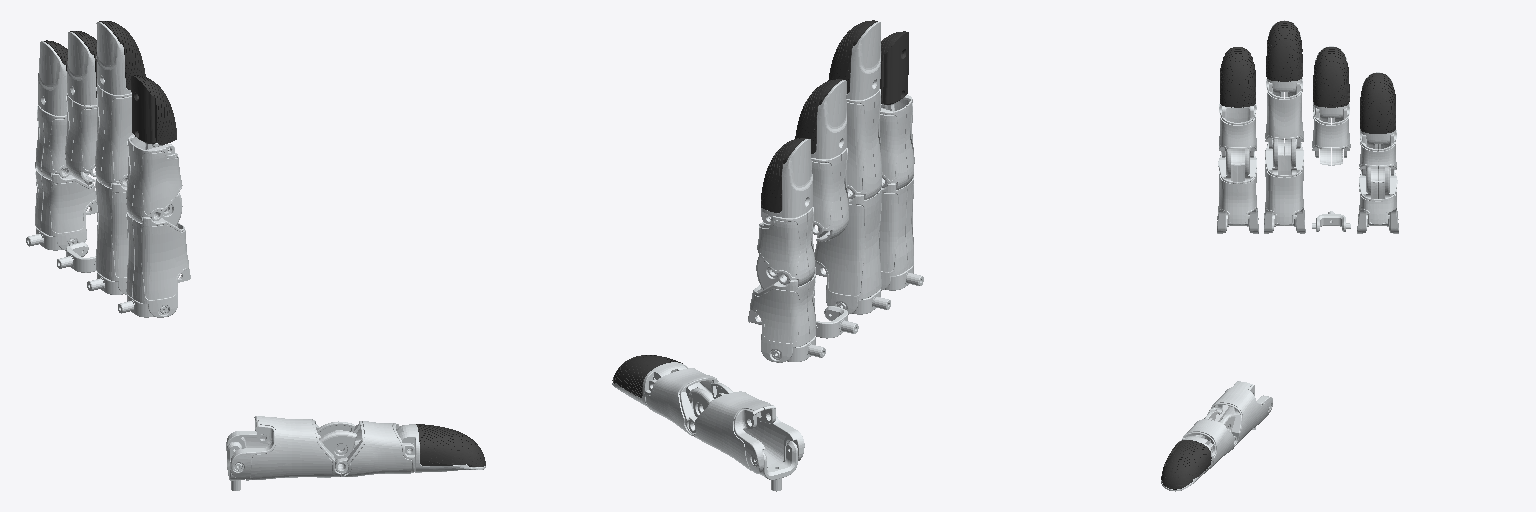
--- Facts derived from the render (not from the file) ---
3 views of the same robot in one strip: view 1: azimuth 30°, elevation 25°; view 2: azimuth 150°, elevation 25°; view 3: azimuth 270°, elevation 25° (orthographic).
Robot: ruihand15z — 26 links, 25 joints (20 revolute, 5 fixed); root link basez_link; default pose: every joint at zero.
Visible links, largest first — view 1: fz12_Link, fz22_Link, fz23_Link, fz52_Link, fz13_Link, fz33_Link, fz32_Link, fz25_Link, fz43_Link, fz15_Link, fz53_Link, fz54_Link (+5 smaller); view 2: fz12_Link, fz32_Link, fz52_Link, fz33_Link, fz53_Link, fz22_Link, fz43_Link, fz23_Link, fz13_Link, fz54_Link, fz44_Link, fz34_Link (+10 smaller); view 3: fz32_Link, fz22_Link, fz12_Link, fz33_Link, fz52_Link, fz35_Link, fz45_Link, fz55_Link, fz25_Link, fz23_Link, fz15_Link, fz43_Link (+2 smaller).
Boxes of the visible links, x1,y1,x2,y2 form: fz12_Link: (226,416,356,480); fz22_Link: (126,193,190,317); fz23_Link: (126,134,182,223); fz52_Link: (35,162,96,250); fz13_Link: (335,421,414,476); fz33_Link: (95,83,132,187); fz32_Link: (95,177,127,294); fz25_Link: (131,75,176,144); fz43_Link: (65,93,96,182); fz15_Link: (416,424,485,466); fz53_Link: (36,105,70,179); fz54_Link: (38,41,66,115); fz12_Link: (691,382,804,473); fz32_Link: (815,187,881,314); fz52_Link: (748,255,815,362); fz33_Link: (846,89,882,199); fz53_Link: (757,207,815,286); fz22_Link: (880,176,913,290); fz43_Link: (811,148,848,241); fz23_Link: (880,95,914,189); fz13_Link: (645,368,719,437); fz54_Link: (761,139,812,222); fz44_Link: (811,80,846,158); fz34_Link: (846,22,880,99); fz32_Link: (1264,138,1305,233); fz22_Link: (1217,148,1258,233); fz12_Link: (1204,381,1272,446); fz33_Link: (1265,78,1303,155); fz52_Link: (1357,166,1398,233); fz35_Link: (1266,21,1302,81); fz45_Link: (1313,47,1349,107); fz55_Link: (1360,73,1395,133); fz25_Link: (1220,47,1255,107); fz23_Link: (1219,104,1256,165); fz15_Link: (1161,440,1211,489); fz43_Link: (1312,104,1350,165).
Size in the robot's own frame: 0.1444 by 0.1198 by 0.2033 metres.
23 mesh visuals loaded from 26 distinct referenced files (23 binary STL); not drawn: 3 (reference not matched to a file when rendering).

The robot description file, URDF, robot "ruihand15z":
<?xml version="1.0" encoding="utf-8"?>
<!-- This URDF was automatically created by SolidWorks to URDF Exporter! Originally created by Stephen Brawner ([email redacted]) 
     Commit Version: 1.6.0-4-g7f85cfe  Build Version: 1.6.7995.38578
     For more information, please see http://wiki.ros.org/sw_urdf_exporter -->
<robot
  name="ruihand15z">
  <link
    name="basez_link">
    <inertial>
      <origin
        xyz="-0.000343173693196291 -0.00107533196815868 0.0538785364397158"
        rpy="0 0 0" />
      <mass
        value="0.227678923959154" />
      <inertia
        ixx="0.000233949235617769"
        ixy="7.90989515641804E-06"
        ixz="1.11723412109733E-06"
        iyy="8.94875887691195E-05"
        iyz="-2.89929640916139E-07"
        izz="0.000204633059326567" />
    </inertial>
    <visual>
      <origin
        xyz="0 0 0"
        rpy="0 0 0" />
      <geometry>
        <mesh
          filename="basez_link.STL" />
      </geometry>
      <material
        name="">
        <color
          rgba="0.898039215686275 0.917647058823529 0.929411764705882 1" />
      </material>
    </visual>
    <collision>
      <origin
        xyz="0 0 0"
        rpy="0 0 0" />
      <geometry>
        <mesh
          filename="basez_link.STL" />
      </geometry>
    </collision>
  </link>
  <link
    name="fz11_Link">
    <inertial>
      <origin
        xyz="-1.79457143589801E-15 9.40220123979429E-16 0.00899061986241671"
        rpy="0 0 0" />
      <mass
        value="0.00121360929921686" />
      <inertia
        ixx="2.58560142514925E-08"
        ixy="1.10591413462516E-08"
        ixz="-4.04031326457625E-23"
        iyy="4.44154571010466E-08"
        iyz="1.90437680618767E-23"
        izz="3.46380536471336E-08" />
    </inertial>
    <visual>
      <origin
        xyz="0 0 0"
        rpy="0 0 0" />
      <geometry>
        <mesh
          filename="fz11_Link.STL" />
      </geometry>
      <material
        name="">
        <color
          rgba="0.898039215686275 0.917647058823529 0.929411764705882 1" />
      </material>
    </visual>
    <collision>
      <origin
        xyz="0 0 0"
        rpy="0 0 0" />
      <geometry>
        <mesh
          filename="fz11_Link.STL" />
      </geometry>
    </collision>
  </link>
  <joint
    name="fz11"
    type="revolute">
    <origin
      xyz="0.0432740521182429 -0.0280103616919723 0.0198000000000003"
      rpy="0 0 1.5707963267949" />
    <parent
      link="basez_link" />
    <child
      link="fz11_Link" />
    <axis
      xyz="0 0 1" />
    <limit
      lower="-0.5236"
      upper="0.5236"
      effort="0"
      velocity="0" />
  </joint>
  <link
    name="fz12_Link">
    <inertial>
      <origin
        xyz="-0.0219931136714581 -0.00242991883748801 0.00939663411233334"
        rpy="0 0 0" />
      <mass
        value="0.00867971105241181" />
      <inertia
        ixx="4.19465389343492E-07"
        ixy="-1.70828148823719E-08"
        ixz="-3.80668629308338E-11"
        iyy="1.48378274279054E-06"
        iyz="-3.94675866684313E-11"
        izz="1.72593124811842E-06" />
    </inertial>
    <visual>
      <origin
        xyz="0 0 0"
        rpy="0 0 0" />
      <geometry>
        <mesh
          filename="fz12_Link.STL" />
      </geometry>
      <material
        name="">
        <color
          rgba="0.898039215686275 0.917647058823529 0.929411764705882 1" />
      </material>
    </visual>
    <collision>
      <origin
        xyz="0 0 0"
        rpy="0 0 0" />
      <geometry>
        <mesh
          filename="fz12_Link.STL" />
      </geometry>
    </collision>
  </link>
  <joint
    name="fz12"
    type="revolute">
    <origin
      xyz="0.0085193 -0.0039726 0.0141"
      rpy="-1.5708 0 1.1345" />
    <parent
      link="fz11_Link" />
    <child
      link="fz12_Link" />
    <axis
      xyz="0 0 1" />
    <limit
      lower="0"
      upper="1.57"
      effort="0"
      velocity="0" />
  </joint>
  <link
    name="fz13_Link">
    <inertial>
      <origin
        xyz="-0.0126990507925126 -0.00157345468912084 0.00900093072894519"
        rpy="0 0 0" />
      <mass
        value="0.00476430658437229" />
      <inertia
        ixx="2.02509589279811E-07"
        ixy="-5.40162774811166E-08"
        ixz="-8.05266363835563E-12"
        iyy="4.48784909974951E-07"
        iyz="-4.20947067171231E-11"
        izz="5.20433152925434E-07" />
    </inertial>
    <visual>
      <origin
        xyz="0 0 0"
        rpy="0 0 0" />
      <geometry>
        <mesh
          filename="fz13_Link.STL" />
      </geometry>
      <material
        name="">
        <color
          rgba="0.898039215686275 0.917647058823529 0.929411764705882 1" />
      </material>
    </visual>
    <collision>
      <origin
        xyz="0 0 0"
        rpy="0 0 0" />
      <geometry>
        <mesh
          filename="fz13_Link.STL" />
      </geometry>
    </collision>
  </link>
  <joint
    name="fz13"
    type="revolute">
    <origin
      xyz="-0.04 0.0020036 0.0004"
      rpy="0 0 0" />
    <parent
      link="fz12_Link" />
    <child
      link="fz13_Link" />
    <axis
      xyz="0 0 1" />
    <limit
      lower="0"
      upper="1.57"
      effort="0"
      velocity="0" />
  </joint>
  <link
    name="fz14_Link">
    <inertial>
      <origin
        xyz="-0.00453291060026979 0.00472963864385041 0.0085002853172281"
        rpy="0 0 0" />
      <mass
        value="0.00501763174574247" />
      <inertia
        ixx="2.42260748249043E-07"
        ixy="1.32389385112088E-07"
        ixz="1.48296682719167E-11"
        iyy="5.10623486838744E-07"
        iyz="-6.07620683644842E-12"
        izz="5.23917809101026E-07" />
    </inertial>
    <visual>
      <origin
        xyz="0 0 0"
        rpy="0 0 0" />
      <geometry>
        <mesh
          filename="fz14_Link.STL" />
      </geometry>
      <material
        name="">
        <color
          rgba="0.898039215686275 0.917647058823529 0.929411764705882 1" />
      </material>
    </visual>
    <collision>
      <origin
        xyz="0 0 0"
        rpy="0 0 0" />
      <geometry>
        <mesh
          filename="fz14_Link.STL" />
      </geometry>
    </collision>
  </link>
  <joint
    name="fz14"
    type="revolute">
    <origin
      xyz="-0.026394 -0.0056891 0.0005"
      rpy="0 0 0" />
    <parent
      link="fz13_Link" />
    <child
      link="fz14_Link" />
    <axis
      xyz="0 0 1" />
    <limit
      lower="0"
      upper="1.57"
      effort="0"
      velocity="0" />
  </joint>
  <link
    name="fz15_Link">
    <inertial>
      <origin
        xyz="0.00807621626554746 -0.0027951812140176 1.05982805131619E-06"
        rpy="0 0 0" />
      <mass
        value="0.0047187316707086" />
      <inertia
        ixx="1.74396668770053E-07"
        ixy="3.59592178537143E-08"
        ixz="-8.47908450546585E-12"
        iyy="3.14361854246266E-07"
        iyz="3.75583978767592E-11"
        izz="2.68192719086891E-07" />
    </inertial>
    <visual>
      <origin
        xyz="0 0 0"
        rpy="0 0 0" />
      <geometry>
        <mesh
          filename="fz15_Link.STL" />
      </geometry>
      <material
        name="">
        <color
          rgba="0.298039215686275 0.298039215686275 0.298039215686275 1" />
      </material>
    </visual>
    <collision>
      <origin
        xyz="0 0 0"
        rpy="0 0 0" />
      <geometry>
        <mesh
          filename="fz15_Link.STL" />
      </geometry>
    </collision>
  </link>
  <joint
    name="fz15"
    type="fixed">
    <origin
      xyz="-0.022081 0.0064251 0.0085"
      rpy="0 0 -0.019201" />
    <parent
      link="fz14_Link" />
    <child
      link="fz15_Link" />
    <axis
      xyz="0 0 0" />
  </joint>
  <link
    name="fz21_Link">
    <inertial>
      <origin
        xyz="8.67361737988404E-18 -1.38777878078145E-17 0.00889061986241678"
        rpy="0 0 0" />
      <mass
        value="0.00121360929921685" />
      <inertia
        ixx="2.06990519491167E-08"
        ixy="-1.09024171460964E-21"
        ixz="-2.87214945251523E-23"
        iyy="4.95724194034222E-08"
        iyz="4.73933075957825E-24"
        izz="3.46380536471335E-08" />
    </inertial>
    <visual>
      <origin
        xyz="0 0 0"
        rpy="0 0 0" />
      <geometry>
        <mesh
          filename="fz21_Link.STL" />
      </geometry>
      <material
        name="">
        <color
          rgba="0.898039215686275 0.917647058823529 0.929411764705882 1" />
      </material>
    </visual>
    <collision>
      <origin
        xyz="0 0 0"
        rpy="0 0 0" />
      <geometry>
        <mesh
          filename="fz21_Link.STL" />
      </geometry>
    </collision>
  </link>
  <joint
    name="fz21"
    type="revolute">
    <origin
      xyz="-0.0127 -0.03525 0.1127"
      rpy="1.5708 0 1.5708" />
    <parent
      link="basez_link" />
    <child
      link="fz21_Link" />
    <axis
      xyz="0 0 1" />
    <limit
      lower="-0.5236"
      upper="0.5236"
      effort="0"
      velocity="0" />
  </joint>
  <link
    name="fz22_Link">
    <inertial>
      <origin
        xyz="-0.0024224459487692 -0.0218789324043602 0.00970417047610463"
        rpy="0 0 0" />
      <mass
        value="0.00846278916519728" />
      <inertia
        ixx="1.45078674231352E-06"
        ixy="-1.85847798062823E-08"
        ixz="5.82745974533489E-12"
        iyy="4.05775375043101E-07"
        iyz="2.23927690148501E-12"
        izz="1.69324372838136E-06" />
    </inertial>
    <visual>
      <origin
        xyz="0 0 0"
        rpy="0 0 0" />
      <geometry>
        <mesh
          filename="fz22_Link.STL" />
      </geometry>
      <material
        name="">
        <color
          rgba="0.898039215686275 0.917647058823529 0.929411764705882 1" />
      </material>
    </visual>
    <collision>
      <origin
        xyz="0 0 0"
        rpy="0 0 0" />
      <geometry>
        <mesh
          filename="fz22_Link.STL" />
      </geometry>
    </collision>
  </link>
  <joint
    name="fz22"
    type="revolute">
    <origin
      xyz="0.0097 0 0.014"
      rpy="3.1416 1.5708 0" />
    <parent
      link="fz21_Link" />
    <child
      link="fz22_Link" />
    <axis
      xyz="0 0 -1" />
    <limit
      lower="0"
      upper="1.57"
      effort="0"
      velocity="0" />
  </joint>
  <link
    name="fz23_Link">
    <inertial>
      <origin
        xyz="0.00144556303041219 0.0125380664486048 0.0079121175601971"
        rpy="0 0 0" />
      <mass
        value="0.0042737052106798" />
      <inertia
        ixx="3.63123749138908E-07"
        ixy="-4.7706779462501E-08"
        ixz="-4.5750404395082E-11"
        iyy="1.52556733134053E-07"
        iyz="-1.35005307556749E-10"
        izz="4.64266435903028E-07" />
    </inertial>
    <visual>
      <origin
        xyz="0 0 0"
        rpy="0 0 0" />
      <geometry>
        <mesh
          filename="fz23_Link.STL" />
      </geometry>
      <material
        name="">
        <color
          rgba="0.898039215686275 0.917647058823529 0.929411764705882 1" />
      </material>
    </visual>
    <collision>
      <origin
        xyz="0 0 0"
        rpy="0 0 0" />
      <geometry>
        <mesh
          filename="fz23_Link.STL" />
      </geometry>
    </collision>
  </link>
  <joint
    name="fz23"
    type="revolute">
    <origin
      xyz="0.0020036 -0.04 0.0018"
      rpy="0 0 3.1416" />
    <parent
      link="fz22_Link" />
    <child
      link="fz23_Link" />
    <axis
      xyz="0 0 -1" />
    <limit
      lower="0"
      upper="1.57"
      effort="0"
      velocity="0" />
  </joint>
  <link
    name="fz24_Link">
    <inertial>
      <origin
        xyz="-0.0046615489863386 0.00436249932742924 0.0081000001090757"
        rpy="0 0 0" />
      <mass
        value="0.004797086900792" />
      <inertia
        ixx="4.75009026472279E-07"
        ixy="1.27106630360519E-07"
        ixz="2.70514553945295E-13"
        iyy="2.17004046491633E-07"
        iyz="-2.79529033156295E-12"
        izz="5.04290146759124E-07" />
    </inertial>
    <visual>
      <origin
        xyz="0 0 0"
        rpy="0 0 0" />
      <geometry>
        <mesh
          filename="fz24_Link.STL" />
      </geometry>
      <material
        name="">
        <color
          rgba="0.898039215686275 0.917647058823529 0.929411764705882 1" />
      </material>
    </visual>
    <collision>
      <origin
        xyz="0 0 0"
        rpy="0 0 0" />
      <geometry>
        <mesh
          filename="fz24_Link.STL" />
      </geometry>
    </collision>
  </link>
  <joint
    name="fz24"
    type="revolute">
    <origin
      xyz="0.0056891 0.026394 -0.0002"
      rpy="0 0 0" />
    <parent
      link="fz23_Link" />
    <child
      link="fz24_Link" />
    <axis
      xyz="0 0 -1" />
    <limit
      lower="0"
      upper="1.57"
      effort="0"
      velocity="0" />
  </joint>
  <link
    name="fz25_Link">
    <inertial>
      <origin
        xyz="0.00297644010695114 -0.00793433108984773 -1.04454911381254E-06"
        rpy="0 0 0" />
      <mass
        value="0.00435559867302523" />
      <inertia
        ixx="2.74467453828814E-07"
        ixy="3.73354169241399E-08"
        ixz="9.96459120675246E-12"
        iyy="1.46865599402683E-07"
        iyz="-1.59369412037933E-11"
        izz="2.50729985549791E-07" />
    </inertial>
    <visual>
      <origin
        xyz="0 0 0"
        rpy="0 0 0" />
      <geometry>
        <mesh
          filename="fz25_Link.STL" />
      </geometry>
      <material
        name="">
        <color
          rgba="0.298039215686275 0.298039215686275 0.298039215686275 1" />
      </material>
    </visual>
    <collision>
      <origin
        xyz="0 0 0"
        rpy="0 0 0" />
      <geometry>
        <mesh
          filename="fz25_Link.STL" />
      </geometry>
    </collision>
  </link>
  <joint
    name="fz25"
    type="fixed">
    <origin
      xyz="-0.00642512289446762 0.0220807109439676 0.00809999999999643"
      rpy="0 0 0" />
    <parent
      link="fz24_Link" />
    <child
      link="fz25_Link" />
    <axis
      xyz="0 0 0" />
  </joint>
  <link
    name="fz31_Link">
    <inertial>
      <origin
        xyz="3.46944695195361E-17 0 0.00889061986241679"
        rpy="0 0 0" />
      <mass
        value="0.00121360929921686" />
      <inertia
        ixx="2.06990534269133E-08"
        ixy="-6.53214829601372E-12"
        ixz="5.44852685710921E-23"
        iyy="4.95724179256259E-08"
        iyz="-1.56736569719939E-24"
        izz="3.46380536471337E-08" />
    </inertial>
    <visual>
      <origin
        xyz="0 0 0"
        rpy="0 0 0" />
      <geometry>
        <mesh
          filename="fz31_Link.STL" />
      </geometry>
      <material
        name="">
        <color
          rgba="0.898039215686275 0.917647058823529 0.929411764705882 1" />
      </material>
    </visual>
    <collision>
      <origin
        xyz="0 0 0"
        rpy="0 0 0" />
      <geometry>
        <mesh
          filename="fz31_Link.STL" />
      </geometry>
    </collision>
  </link>
  <joint
    name="fz31"
    type="revolute">
    <origin
      xyz="-0.0127 -0.01175 0.1127"
      rpy="1.5708 0 1.5708" />
    <parent
      link="basez_link" />
    <child
      link="fz31_Link" />
    <axis
      xyz="0 0 1" />
    <limit
      lower="-0.5236"
      upper="0.5236"
      effort="0"
      velocity="0" />
  </joint>
  <link
    name="fz32_Link">
    <inertial>
      <origin
        xyz="-0.00230635436550868 -0.024546887246329 0.00970601769878913"
        rpy="0 0 0" />
      <mass
        value="0.00970085709495209" />
      <inertia
        ixx="2.01206764506793E-06"
        ixy="7.24905883190802E-09"
        ixz="2.25496571418056E-11"
        iyy="4.68755263351551E-07"
        iyz="3.97846945209784E-10"
        izz="2.28717289308103E-06" />
    </inertial>
    <visual>
      <origin
        xyz="0 0 0"
        rpy="0 0 0" />
      <geometry>
        <mesh
          filename="fz32_Link.STL" />
      </geometry>
      <material
        name="">
        <color
          rgba="0.898039215686275 0.917647058823529 0.929411764705882 1" />
      </material>
    </visual>
    <collision>
      <origin
        xyz="0 0 0"
        rpy="0 0 0" />
      <geometry>
        <mesh
          filename="fz32_Link.STL" />
      </geometry>
    </collision>
  </link>
  <joint
    name="fz32"
    type="revolute">
    <origin
      xyz="0.0097 0 0.014"
      rpy="3.1416 1.5708 0" />
    <parent
      link="fz31_Link" />
    <child
      link="fz32_Link" />
    <axis
      xyz="0 0 -1" />
    <limit
      lower="0"
      upper="1.57"
      effort="0"
      velocity="0" />
  </joint>
  <link
    name="fz33_Link">
    <inertial>
      <origin
        xyz="0.00167719778740236 0.0171106598149136 0.00809931802813798"
        rpy="0 0 0" />
      <mass
        value="0.00562429907357917" />
      <inertia
        ixx="7.47389909508924E-07"
        ixy="-6.65996272978188E-08"
        ixz="6.85392395706153E-12"
        iyy="2.1598638936055E-07"
        iyz="1.1469744240597E-11"
        izz="8.96836484178209E-07" />
    </inertial>
    <visual>
      <origin
        xyz="0 0 0"
        rpy="0 0 0" />
      <geometry>
        <mesh
          filename="fz33_Link.STL" />
      </geometry>
      <material
        name="">
        <color
          rgba="0.898039215686275 0.917647058823529 0.929411764705882 1" />
      </material>
    </visual>
    <collision>
      <origin
        xyz="0 0 0"
        rpy="0 0 0" />
      <geometry>
        <mesh
          filename="fz33_Link.STL" />
      </geometry>
    </collision>
  </link>
  <joint
    name="fz33"
    type="revolute">
    <origin
      xyz="0.0020038 -0.044999 0.0016102"
      rpy="0.00022623 0 3.1416" />
    <parent
      link="fz32_Link" />
    <child
      link="fz33_Link" />
    <axis
      xyz="0 0 -1" />
    <limit
      lower="0"
      upper="1.57"
      effort="0"
      velocity="0" />
  </joint>
  <link
    name="fz34_Link">
    <inertial>
      <origin
        xyz="-0.00474818242682288 0.0042680396063296 0.00809999951755613"
        rpy="0 0 0" />
      <mass
        value="0.00479709005491605" />
      <inertia
        ixx="4.69802764695063E-07"
        ixy="1.32182616135345E-07"
        ixz="3.43103424235345E-13"
        iyy="2.2221068419338E-07"
        iyz="-2.80276293170484E-12"
        izz="5.0429036734158E-07" />
    </inertial>
    <visual>
      <origin
        xyz="0 0 0"
        rpy="0 0 0" />
      <geometry>
        <mesh
          filename="fz34_Link.STL" />
      </geometry>
      <material
        name="">
        <color
          rgba="0.898039215686275 0.917647058823529 0.929411764705882 1" />
      </material>
    </visual>
    <collision>
      <origin
        xyz="0 0 0"
        rpy="0 0 0" />
      <geometry>
        <mesh
          filename="fz34_Link.STL" />
      </geometry>
    </collision>
  </link>
  <joint
    name="fz34"
    type="revolute">
    <origin
      xyz="0.0054853 0.03558 0"
      rpy="0 0 0" />
    <parent
      link="fz33_Link" />
    <child
      link="fz34_Link" />
    <axis
      xyz="0 0 -1" />
    <limit
      lower="0"
      upper="1.57"
      effort="0"
      velocity="0" />
  </joint>
  <link
    name="fz35_Link">
    <inertial>
      <origin
        xyz="0.00282355930593195 -0.00799001063525345 -2.85317253618037E-06"
        rpy="0 0 0" />
      <mass
        value="0.00435560069956694" />
      <inertia
        ixx="2.75853550242294E-07"
        ixy="3.48583254240291E-08"
        ixz="1.75457817411801E-11"
        iyy="1.45479125623656E-07"
        iyz="-3.99641518988374E-11"
        izz="2.50729960536096E-07" />
    </inertial>
    <visual>
      <origin
        xyz="0 0 0"
        rpy="0 0 0" />
      <geometry>
        <mesh
          filename="fz35_Link.STL" />
      </geometry>
      <material
        name="">
        <color
          rgba="0.298039215686275 0.298039215686275 0.298039215686275 1" />
      </material>
    </visual>
    <collision>
      <origin
        xyz="0 0 0"
        rpy="0 0 0" />
      <geometry>
        <mesh
          filename="fz35_Link.STL" />
      </geometry>
    </collision>
  </link>
  <joint
    name="fz35"
    type="fixed">
    <origin
      xyz="-0.0068671 0.021947 0.0081"
      rpy="-0.00022606 0 0.039277" />
    <parent
      link="fz34_Link" />
    <child
      link="fz35_Link" />
    <axis
      xyz="0 0 0" />
  </joint>
  <link
    name="fz41_Link">
    <inertial>
      <origin
        xyz="8.2572837456496E-16 -5.68989300120393E-16 0.00889061986241678"
        rpy="0 0 0" />
      <mass
        value="0.00121360929921685" />
      <inertia
        ixx="2.06990519491167E-08"
        ixy="-1.08986684790747E-21"
        ixz="-3.07117145713156E-23"
        iyy="4.95724194034223E-08"
        iyz="3.9768160157453E-24"
        izz="3.46380536471335E-08" />
    </inertial>
    <visual>
      <origin
        xyz="0 0 0"
        rpy="0 0 0" />
      <geometry>
        <mesh
          filename="fz41_Link.STL" />
      </geometry>
      <material
        name="">
        <color
          rgba="0.898039215686275 0.917647058823529 0.929411764705882 1" />
      </material>
    </visual>
    <collision>
      <origin
        xyz="0 0 0"
        rpy="0 0 0" />
      <geometry>
        <mesh
          filename="fz41_Link.STL" />
      </geometry>
    </collision>
  </link>
  <joint
    name="fz41"
    type="revolute">
    <origin
      xyz="-0.0127 0.01175 0.1127"
      rpy="1.5708 0 1.5708" />
    <parent
      link="basez_link" />
    <child
      link="fz41_Link" />
    <axis
      xyz="0 0 1" />
    <limit
      lower="-0.5236"
      upper="0.5236"
      effort="0"
      velocity="0" />
  </joint>
  <link
    name="fz42_Link">
    <inertial>
      <origin
        xyz="-0.0024223943615205 -0.0218790022843764 0.00970418924875011"
        rpy="0 0 0" />
      <mass
        value="0.0084627209033577" />
      <inertia
        ixx="1.45078116670361E-06"
        ixy="-1.85887958439573E-08"
        ixz="6.2725228166403E-12"
        iyy="4.05772553484885E-07"
        iyz="1.73232689183446E-12"
        izz="1.69323532311485E-06" />
    </inertial>
    <visual>
      <origin
        xyz="0 0 0"
        rpy="0 0 0" />
      <geometry>
        <mesh
          filename="fz42_Link.STL" />
      </geometry>
      <material
        name="">
        <color
          rgba="0.898039215686275 0.917647058823529 0.929411764705882 1" />
      </material>
    </visual>
    <collision>
      <origin
        xyz="0 0 0"
        rpy="0 0 0" />
      <geometry>
        <mesh
          filename="fz42_Link.STL" />
      </geometry>
    </collision>
  </link>
  <joint
    name="fz42"
    type="revolute">
    <origin
      xyz="0.0097 0 0.014"
      rpy="3.1416 1.5708 0" />
    <parent
      link="fz41_Link" />
    <child
      link="fz42_Link" />
    <axis
      xyz="0 0 -1" />
    <limit
      lower="0"
      upper="1.57"
      effort="0"
      velocity="0" />
  </joint>
  <link
    name="fz43_Link">
    <inertial>
      <origin
        xyz="0.00144556444580644 0.0125380783509271 0.00791209798733419"
        rpy="0 0 0" />
      <mass
        value="0.00427370927137846" />
      <inertia
        ixx="3.63124223109181E-07"
        ixy="-4.77064764036456E-08"
        ixz="-4.57671956631534E-11"
        iyy="1.52556575387702E-07"
        iyz="-1.34818075099846E-10"
        izz="4.6426684005389E-07" />
    </inertial>
    <visual>
      <origin
        xyz="0 0 0"
        rpy="0 0 0" />
      <geometry>
        <mesh
          filename="fz43_Link.STL" />
      </geometry>
      <material
        name="">
        <color
          rgba="0.898039215686275 0.917647058823529 0.929411764705882 1" />
      </material>
    </visual>
    <collision>
      <origin
        xyz="0 0 0"
        rpy="0 0 0" />
      <geometry>
        <mesh
          filename="fz43_Link.STL" />
      </geometry>
    </collision>
  </link>
  <joint
    name="fz43"
    type="revolute">
    <origin
      xyz="0.0020036 -0.04 0.0018"
      rpy="0 0 -3.1416" />
    <parent
      link="fz42_Link" />
    <child
      link="fz43_Link" />
    <axis
      xyz="0 0 -1" />
    <limit
      lower="0"
      upper="1.57"
      effort="0"
      velocity="0" />
  </joint>
  <link
    name="fz44_Link">
    <inertial>
      <origin
        xyz="-0.0046615489862829 0.00436249932743207 0.00810000010907516"
        rpy="0 0 0" />
      <mass
        value="0.00479708690079202" />
      <inertia
        ixx="4.75009026472187E-07"
        ixy="1.27106630360442E-07"
        ixz="2.70514541164931E-13"
        iyy="2.17004046491612E-07"
        iyz="-2.79529030767508E-12"
        izz="5.04290146759031E-07" />
    </inertial>
    <visual>
      <origin
        xyz="0 0 0"
        rpy="0 0 0" />
      <geometry>
        <mesh
          filename="fz44_Link.STL" />
      </geometry>
      <material
        name="">
        <color
          rgba="0.898039215686275 0.917647058823529 0.929411764705882 1" />
      </material>
    </visual>
    <collision>
      <origin
        xyz="0 0 0"
        rpy="0 0 0" />
      <geometry>
        <mesh
          filename="fz44_Link.STL" />
      </geometry>
    </collision>
  </link>
  <joint
    name="fz44"
    type="revolute">
    <origin
      xyz="0.0056891 0.026394 -0.0002"
      rpy="0 0 0" />
    <parent
      link="fz43_Link" />
    <child
      link="fz44_Link" />
    <axis
      xyz="0 0 -1" />
    <limit
      lower="0"
      upper="1.57"
      effort="0"
      velocity="0" />
  </joint>
  <link
    name="fz45_Link">
    <inertial>
      <origin
        xyz="0.00282354560718888 -0.00799001272647393 -1.0521582453904E-06"
        rpy="0 0 0" />
      <mass
        value="0.00435559018942134" />
      <inertia
        ixx="2.75853690422666E-07"
        ixy="3.4858408312528E-08"
        ixz="9.82181470283482E-12"
        iyy="1.45478879080313E-07"
        iyz="-1.61338316881659E-11"
        izz="2.50729739440494E-07" />
    </inertial>
    <visual>
      <origin
        xyz="0 0 0"
        rpy="0 0 0" />
      <geometry>
        <mesh
          filename="fz45_Link.STL" />
      </geometry>
      <material
        name="">
        <color
          rgba="0.298039215686275 0.298039215686275 0.298039215686275 1" />
      </material>
    </visual>
    <collision>
      <origin
        xyz="0 0 0"
        rpy="0 0 0" />
      <geometry>
        <mesh
          filename="fz45_Link.STL" />
      </geometry>
    </collision>
  </link>
  <joint
    name="fz45"
    type="fixed">
    <origin
      xyz="-0.00642512289441233 0.0220807109439711 0.00809999999999604"
      rpy="0 0 0.0192006778854375" />
    <parent
      link="fz44_Link" />
    <child
      link="fz45_Link" />
    <axis
      xyz="0 0 0" />
  </joint>
  <link
    name="fz51_Link">
    <inertial>
      <origin
        xyz="5.33739719088544E-14 5.94524429686771E-14 0.00899061986241199"
        rpy="0 0 0" />
      <mass
        value="0.00121360929921686" />
      <inertia
        ixx="2.06990534269133E-08"
        ixy="6.53214829729292E-12"
        ixz="-3.67710626650956E-23"
        iyy="4.95724179256258E-08"
        iyz="-4.64323103012143E-24"
        izz="3.46380536471336E-08" />
    </inertial>
    <visual>
      <origin
        xyz="0 0 0"
        rpy="0 0 0" />
      <geometry>
        <mesh
          filename="fz51_Link.STL" />
      </geometry>
      <material
        name="">
        <color
          rgba="0.898039215686275 0.917647058823529 0.929411764705882 1" />
      </material>
    </visual>
    <collision>
      <origin
        xyz="0 0 0"
        rpy="0 0 0" />
      <geometry>
        <mesh
          filename="fz51_Link.STL" />
      </geometry>
    </collision>
  </link>
  <joint
    name="fz51"
    type="revolute">
    <origin
      xyz="-0.0127999999999372 0.0352499999999372 0.112699999999874"
      rpy="1.5707963267949 0 1.5707963267949" />
    <parent
      link="basez_link" />
    <child
      link="fz51_Link" />
    <axis
      xyz="0 0 1" />
    <limit
      lower="-0.5236"
      upper="0.5236"
      effort="0"
      velocity="0" />
  </joint>
  <link
    name="fz52_Link">
    <inertial>
      <origin
        xyz="0.00246342248238006 0.0167158509285736 0.00966233264715678"
        rpy="0 0 0" />
      <mass
        value="0.00657269018137149" />
      <inertia
        ixx="6.88453851344855E-07"
        ixy="-2.29350346466209E-08"
        ixz="-1.92686903909044E-11"
        iyy="2.94941097625546E-07"
        iyz="-1.74500028513996E-11"
        izz="8.75198238359448E-07" />
    </inertial>
    <visual>
      <origin
        xyz="0 0 0"
        rpy="0 0 0" />
      <geometry>
        <mesh
          filename="fz52_Link.STL" />
      </geometry>
      <material
        name="">
        <color
          rgba="0.898039215686275 0.917647058823529 0.929411764705882 1" />
      </material>
    </visual>
    <collision>
      <origin
        xyz="0 0 0"
        rpy="0 0 0" />
      <geometry>
        <mesh
          filename="fz52_Link.STL" />
      </geometry>
    </collision>
  </link>
  <joint
    name="fz52"
    type="revolute">
    <origin
      xyz="0.0097 0 0.0141"
      rpy="3.1414 -1.5708 3.1416" />
    <parent
      link="fz51_Link" />
    <child
      link="fz52_Link" />
    <axis
      xyz="0 0 -1" />
    <limit
      lower="0"
      upper="1.57"
      effort="0"
      velocity="0" />
  </joint>
  <link
    name="fz53_Link">
    <inertial>
      <origin
        xyz="0.00139189295249416 0.0105623722213472 0.00810000876525334"
        rpy="0 0 0" />
      <mass
        value="0.00345238243726152" />
      <inertia
        ixx="2.49744964793813E-07"
        ixy="-3.381184603362E-08"
        ixz="-1.06923474569882E-11"
        iyy="1.3459572382513E-07"
        iyz="4.22671685070935E-12"
        izz="3.07778556250795E-07" />
    </inertial>
    <visual>
      <origin
        xyz="0 0 0"
        rpy="0 0 0" />
      <geometry>
        <mesh
          filename="fz53_Link.STL" />
      </geometry>
      <material
        name="">
        <color
          rgba="0.898039215686275 0.917647058823529 0.929411764705882 1" />
      </material>
    </visual>
    <collision>
      <origin
        xyz="0 0 0"
        rpy="0 0 0" />
      <geometry>
        <mesh
          filename="fz53_Link.STL" />
      </geometry>
    </collision>
  </link>
  <joint
    name="fz53"
    type="revolute">
    <origin
      xyz="-0.0020025 0.03 0.00155"
      rpy="0 0 0" />
    <parent
      link="fz52_Link" />
    <child
      link="fz53_Link" />
    <axis
      xyz="0 0 -1" />
    <limit
      lower="0"
      upper="1.57"
      effort="0"
      velocity="0" />
  </joint>
  <link
    name="fz54_Link">
    <inertial>
      <origin
        xyz="-0.00453320968862529 0.00449571825323433 0.00800000047783327"
        rpy="0 0 0" />
      <mass
        value="0.00479708561028833" />
      <inertia
        ixx="4.82154239672455E-07"
        ixy="1.19421786593094E-07"
        ixz="1.88776072807518E-13"
        iyy="2.09858766539007E-07"
        iyz="-2.81174441443805E-12"
        izz="5.04290144168833E-07" />
    </inertial>
    <visual>
      <origin
        xyz="0 0 0"
        rpy="0 0 0" />
      <geometry>
        <mesh
          filename="fz54_Link.STL" />
      </geometry>
      <material
        name="">
        <color
          rgba="0.898039215686275 0.917647058823529 0.929411764705882 1" />
      </material>
    </visual>
    <collision>
      <origin
        xyz="0 0 0"
        rpy="0 0 0" />
      <geometry>
        <mesh
          filename="fz54_Link.STL" />
      </geometry>
    </collision>
  </link>
  <joint
    name="fz54"
    type="revolute">
    <origin
      xyz="0.0060847 0.022181 0.0001"
      rpy="0 0 0" />
    <parent
      link="fz53_Link" />
    <child
      link="fz54_Link" />
    <axis
      xyz="0 0 -1" />
    <limit
      lower="0"
      upper="1.57"
      effort="0"
      velocity="0" />
  </joint>
  <link
    name="fz55_Link">
    <inertial>
      <origin
        xyz="0.00282352245481576 -0.00798999558295638 7.65747619230206E-07"
        rpy="0 0 0" />
      <mass
        value="0.00435558936641852" />
      <inertia
        ixx="2.75853696457249E-07"
        ixy="3.48582810672917E-08"
        ixz="2.17708080580854E-12"
        iyy="1.45478024665025E-07"
        iyz="7.45351204291172E-12"
        izz="2.5072931732183E-07" />
    </inertial>
    <visual>
      <origin
        xyz="0 0 0"
        rpy="0 0 0" />
      <geometry>
        <mesh
          filename="fz55_Link.STL" />
      </geometry>
      <material
        name="">
        <color
          rgba="0.298039215686275 0.298039215686275 0.298039215686275 1" />
      </material>
    </visual>
    <collision>
      <origin
        xyz="0 0 0"
        rpy="0 0 0" />
      <geometry>
        <mesh
          filename="fz55_Link.STL" />
      </geometry>
    </collision>
  </link>
  <joint
    name="fz55"
    type="fixed">
    <origin
      xyz="-0.0057827 0.022258 0.008"
      rpy="0.00022625 0 -0.0097744" />
    <parent
      link="fz54_Link" />
    <child
      link="fz55_Link" />
    <axis
      xyz="0 0 0" />
  </joint>
</robot>
